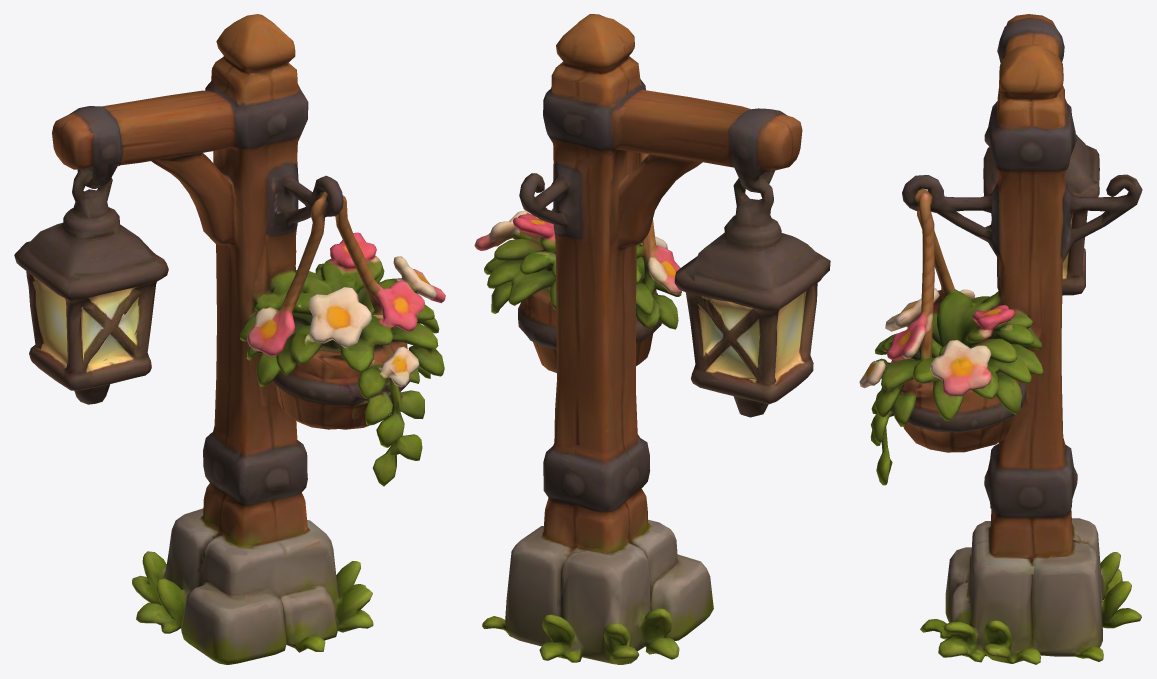
3 views of the same model, side by side, from view 1: azimuth 30°, elevation 25°; view 2: azimuth 150°, elevation 25°; view 3: azimuth 270°, elevation 25° (orthographic). The views are drawn at different scales.
Parts seen in each view (by area): view 1: lamp-post; view 2: lamp-post; view 3: lamp-post.
Boxes of the visible parts, bbox=[...] form: lamp-post: bbox=[14, 14, 445, 664]; lamp-post: bbox=[474, 14, 830, 664]; lamp-post: bbox=[859, 14, 1142, 664].
Size of the model in its own units: 1.62 by 2.6 by 1.14.
1 material, 1 textured.
